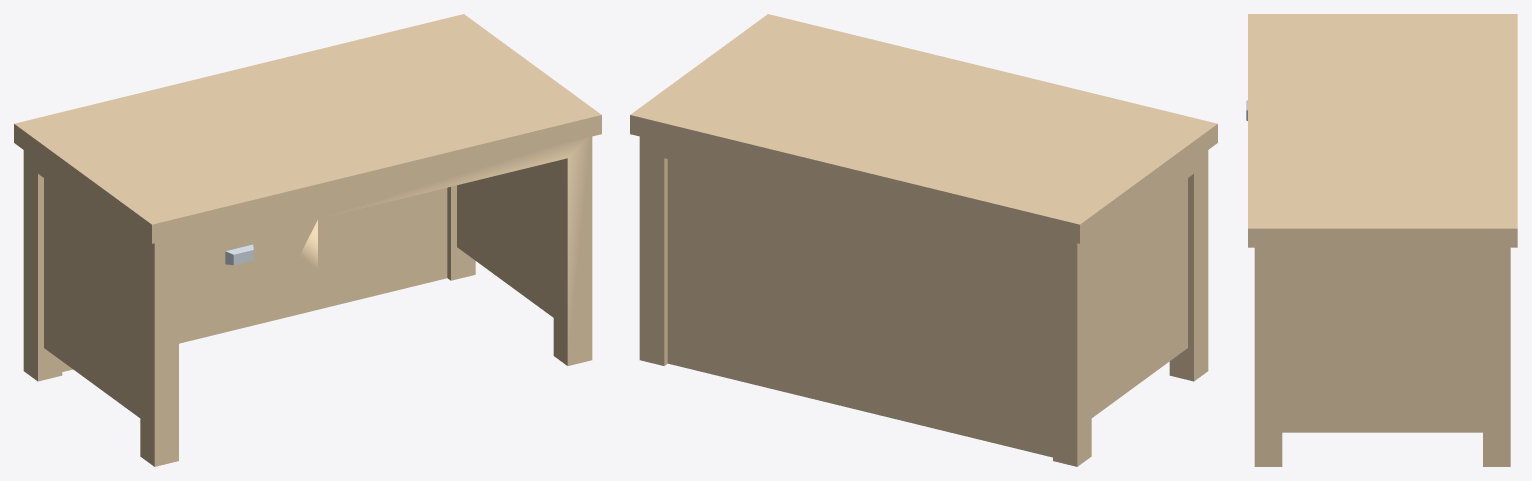
The model's file is desk.glb.
3 views of the same model, side by side, from view 1: azimuth 30°, elevation 25°; view 2: azimuth 150°, elevation 25°; view 3: azimuth 270°, elevation 25° (orthographic). The views are drawn at different scales.
Parts seen in each view (by area): view 1: desk(Clone), drawer; view 2: desk(Clone); view 3: desk(Clone).
Boxes of the visible parts, <box> form: desk(Clone): <box>14,14,601,466</box>; drawer: <box>179,223,299,284</box>; desk(Clone): <box>630,14,1217,466</box>; desk(Clone): <box>1248,14,1517,466</box>.
Size of the model in its own units: 0.7345 by 0.3844 by 0.3923.
